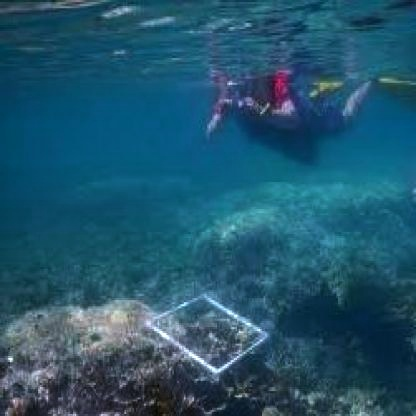metal: (146, 290, 262, 391)
